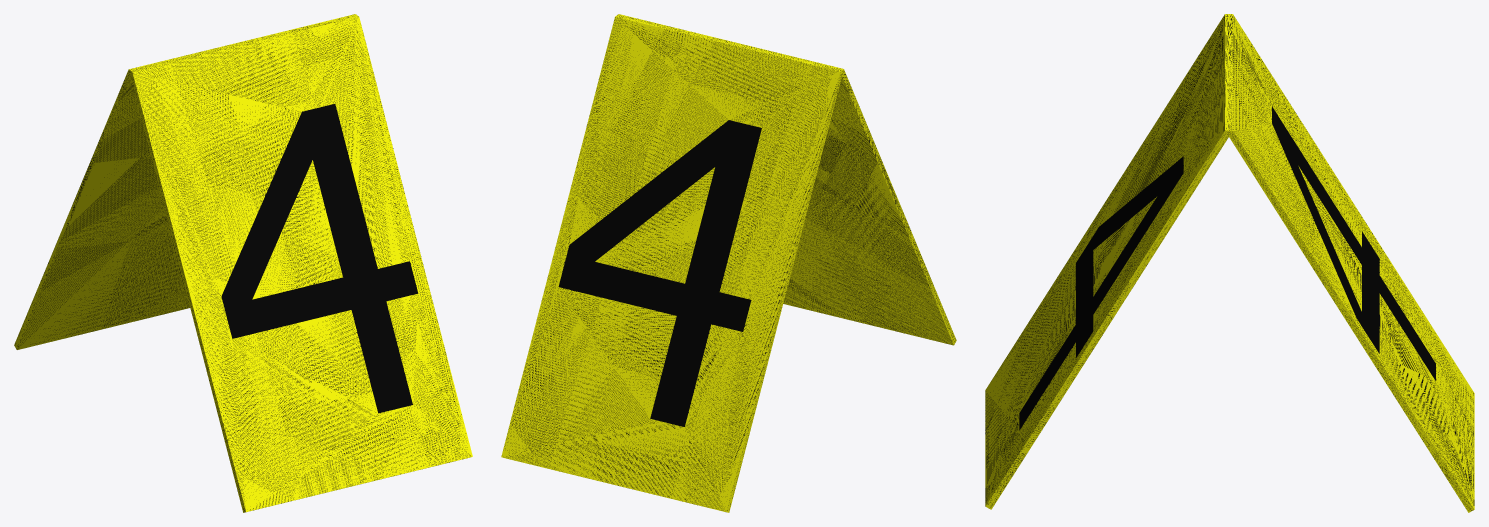
Rendered from D_Four.dae.
3 renders of one model, left to right at view 1: azimuth 30°, elevation 25°; view 2: azimuth 150°, elevation 25°; view 3: azimuth 270°, elevation 25°, orthographic. The views are drawn at different scales.
Parts seen in each view (by area): view 1: skpA97A (×3); view 2: skpA97A (×3); view 3: skpA97A (×5).
Part boxes in pixels (x1,y1,x2,y2): skpA97A (×3): [14, 14, 472, 512]; skpA97A (×3): [501, 14, 956, 512]; skpA97A (×5): [985, 14, 1474, 512].
Bounding box in the file's own units: 4 × 7.09 × 6.11.
